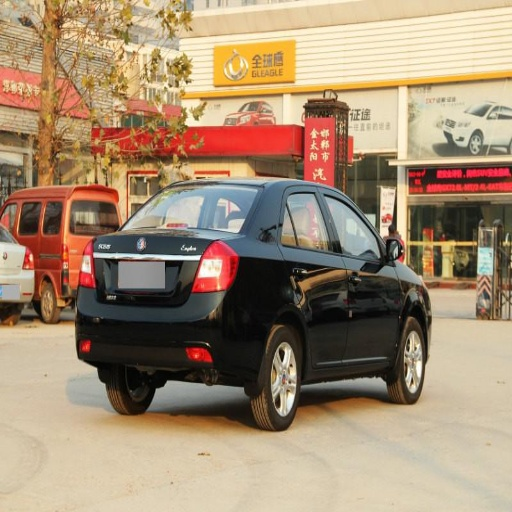back_bumper: (78, 289, 267, 383)
back_right_door: (280, 186, 346, 370)
